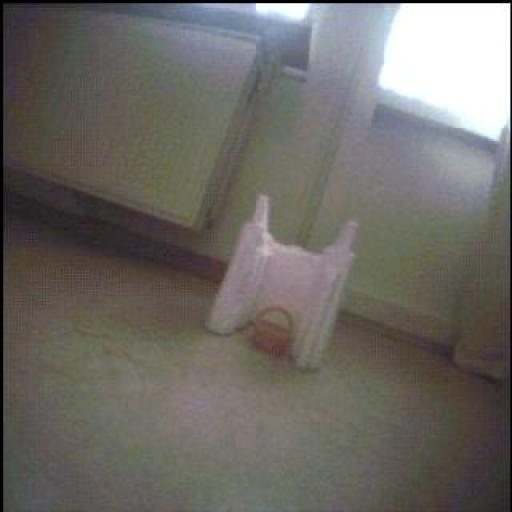Basket: (254, 307, 294, 358)
